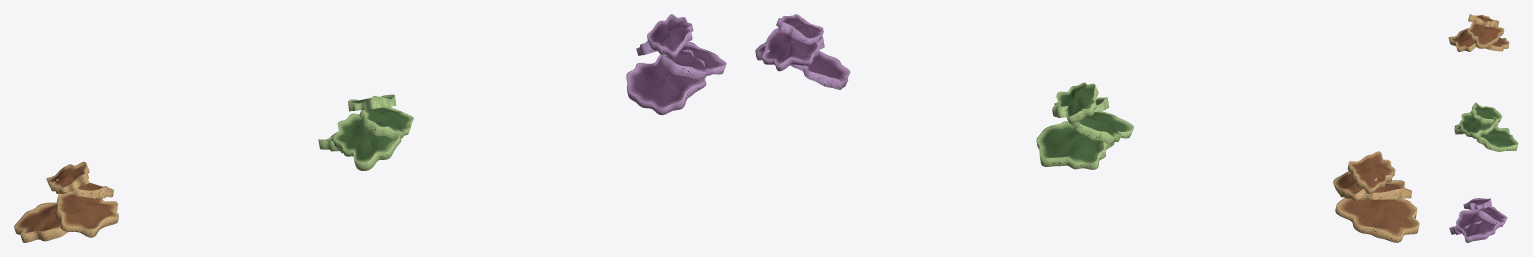
3 renders of one model, left to right at view 1: azimuth 30°, elevation 25°; view 2: azimuth 150°, elevation 25°; view 3: azimuth 270°, elevation 25°, orthographic. The views are drawn at different scales.
Visible parts, largest first — view 1: plating-montipora-2, plating-montipora-0, plating-montipora-1; view 2: plating-montipora-1, plating-montipora-0, plating-montipora-2; view 3: plating-montipora-1, plating-montipora-2, plating-montipora-0.
Part boxes in pixels (x1,y1,x2,y2): plating-montipora-2: (626,14,726,115); plating-montipora-0: (14,161,118,242); plating-montipora-1: (318,94,413,170); plating-montipora-1: (1036,82,1133,169); plating-montipora-0: (1333,151,1419,242); plating-montipora-2: (755,14,850,89); plating-montipora-1: (1454,102,1518,151); plating-montipora-2: (1449,198,1507,242); plating-montipora-0: (1448,14,1509,51).
Bounding box in the file's own units: 1.39 × 0.1405 × 0.1943.
Materials: 1 (1 with a texture image).
